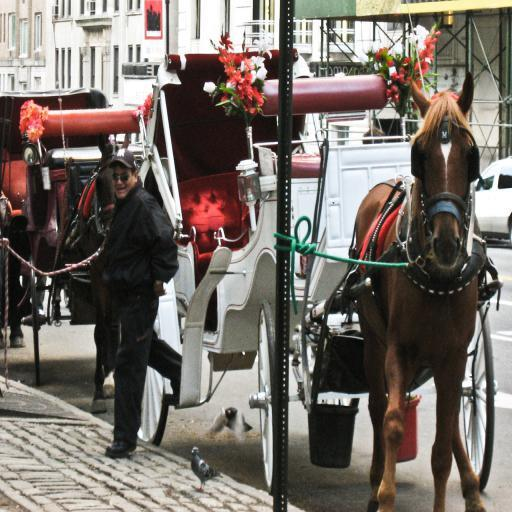horse: (354, 74, 489, 512), (78, 130, 126, 418)
